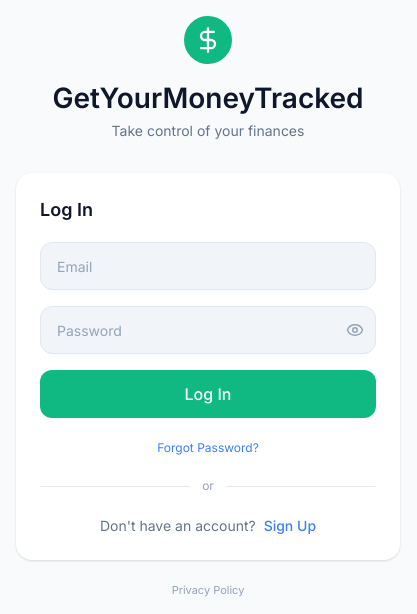
Scenario: LoginPage › switches to forgot password view when Forgot Password is clicked
Click the button "Forgot Password?" at x=208, y=449, box left=157, top=440, right=259, bottom=457
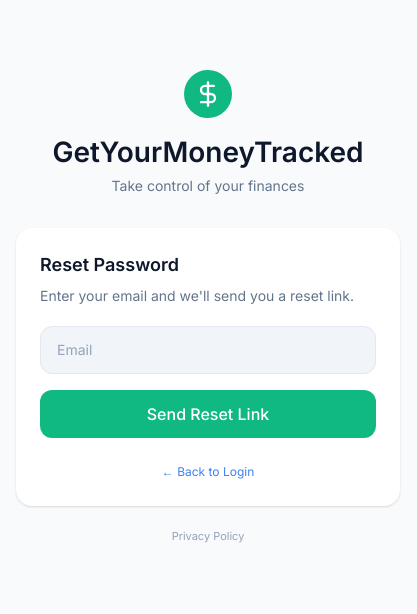
Result: the text "Reset Password" is shown at left=40, top=254, right=179, bottom=275
